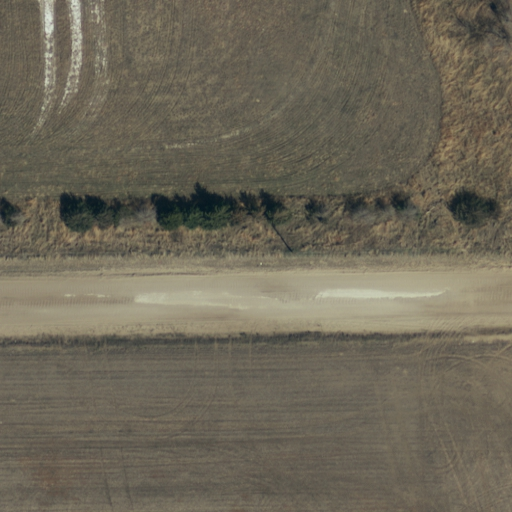DT: (281, 238, 301, 264)
